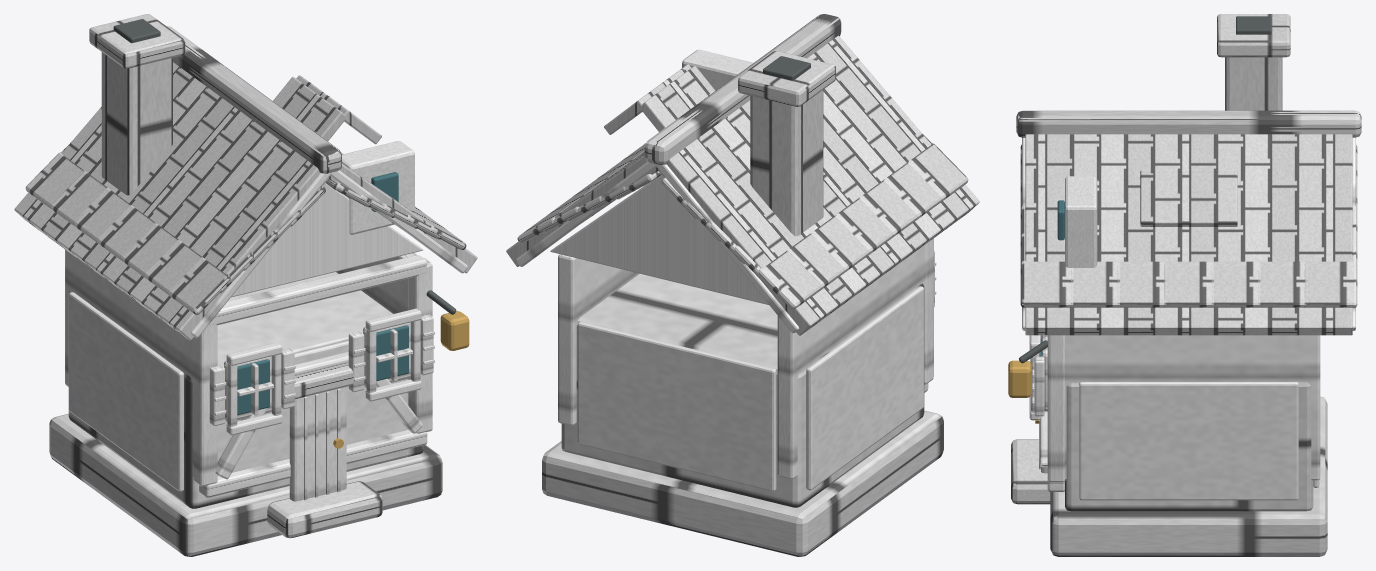
File: medieval_house.glb
The picture shows the model from 3 angles, left to right: view 1: azimuth 30°, elevation 25°; view 2: azimuth 150°, elevation 25°; view 3: azimuth 270°, elevation 25°; orthographic projection. The views are drawn at different scales.
Parts seen in each view (by area): view 1: MedievalHouse_Geometry; view 2: MedievalHouse_Geometry; view 3: MedievalHouse_Geometry.
Part boxes in pixels (<box>): MedievalHouse_Geometry: <box>14,14,477,556</box>; MedievalHouse_Geometry: <box>506,14,979,556</box>; MedievalHouse_Geometry: <box>1008,14,1361,556</box>.
Size of the model in its own units: 1.89 by 2.69 by 1.96.
Materials: 13 (10 with a texture image).
